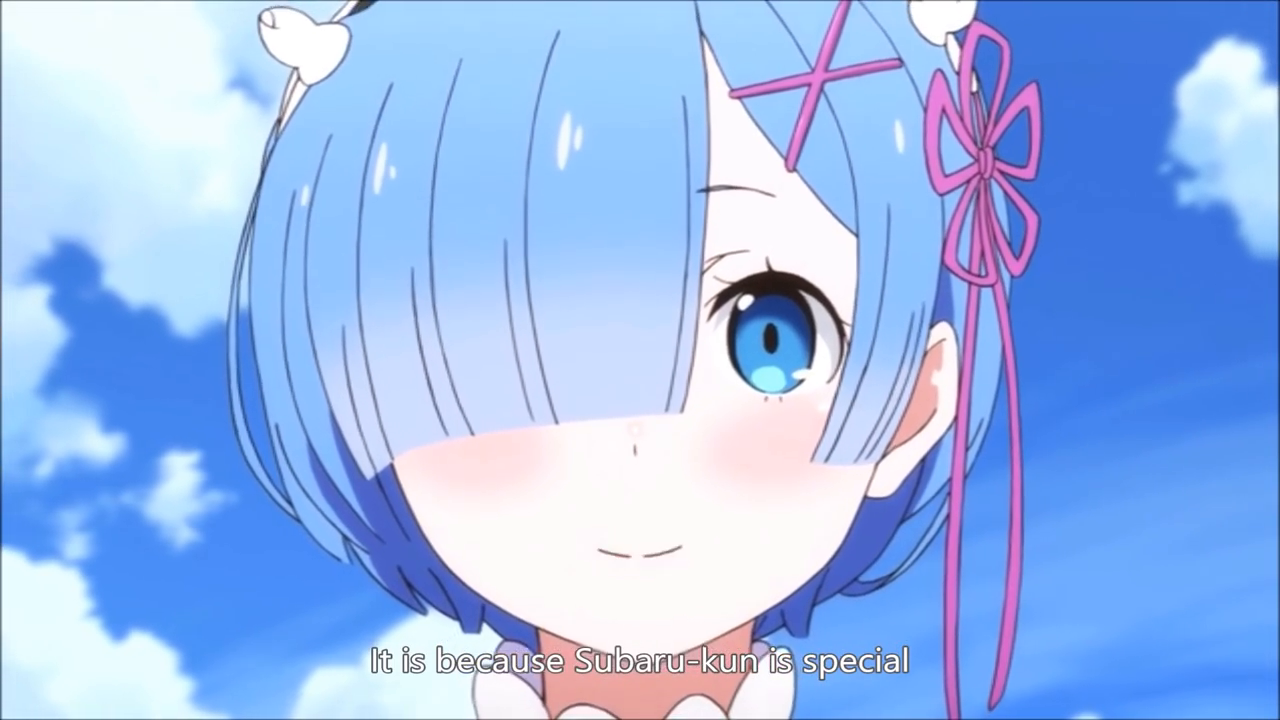REM: (227, 1, 1019, 669)
